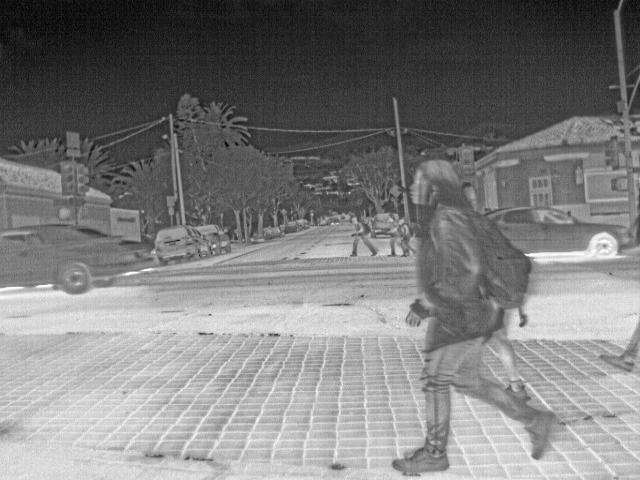car: (1, 223, 156, 295), (483, 205, 632, 258), (154, 225, 213, 267), (195, 222, 233, 255), (372, 210, 403, 239), (370, 212, 389, 236), (285, 220, 300, 236), (296, 218, 309, 230), (329, 215, 340, 225)
person: (392, 159, 557, 472), (350, 215, 378, 256), (398, 218, 416, 254), (390, 212, 403, 257), (401, 215, 411, 255)
